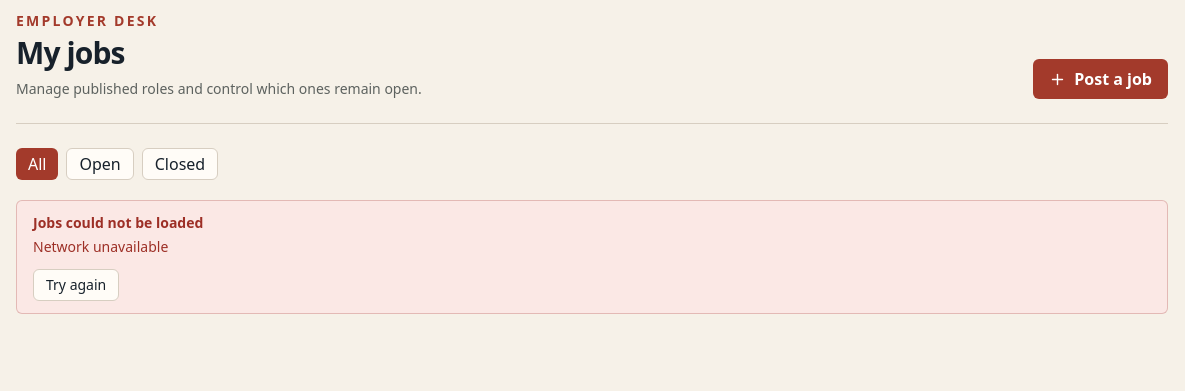
EmployerJobsPage › shows empty, error, and retry states
Expected: the text "Network unavailable" is shown, [33,237,168,256]
Click the button "Try again" at (76, 285), box [33,269,119,301]
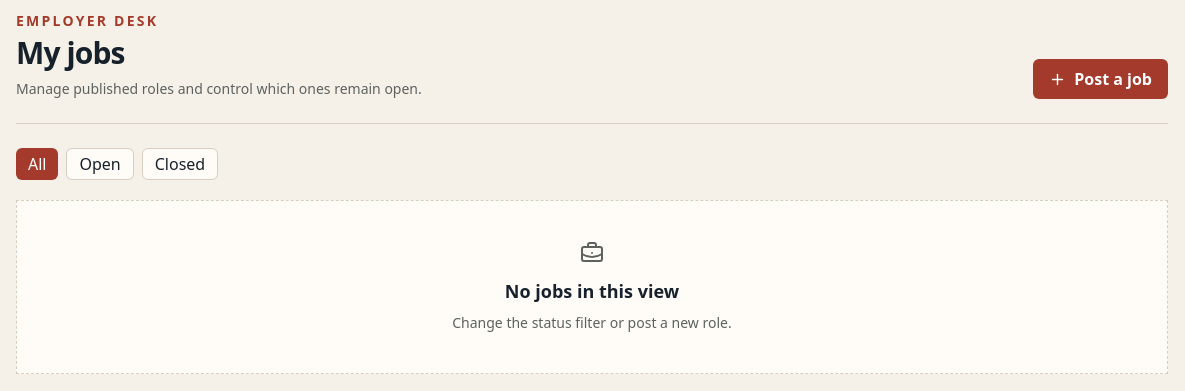
Now the heading "No jobs in this view" is shown, box [505,279,679,303]
